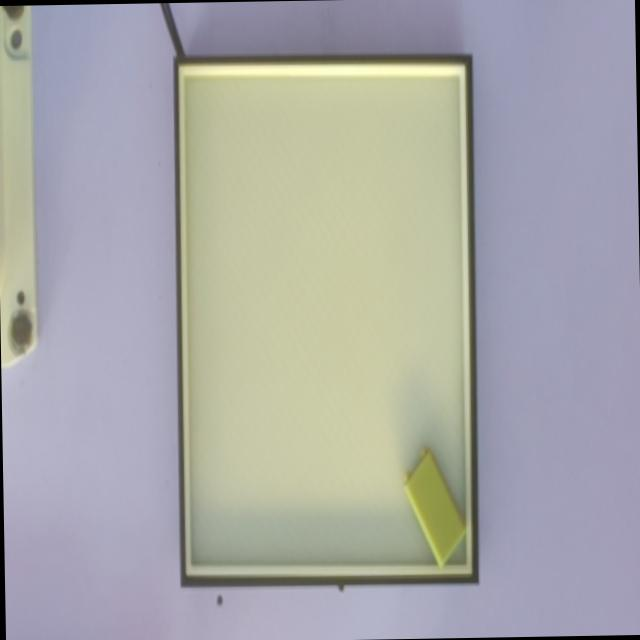bateria: (401, 446, 467, 568)
mesa: (173, 55, 478, 587)
